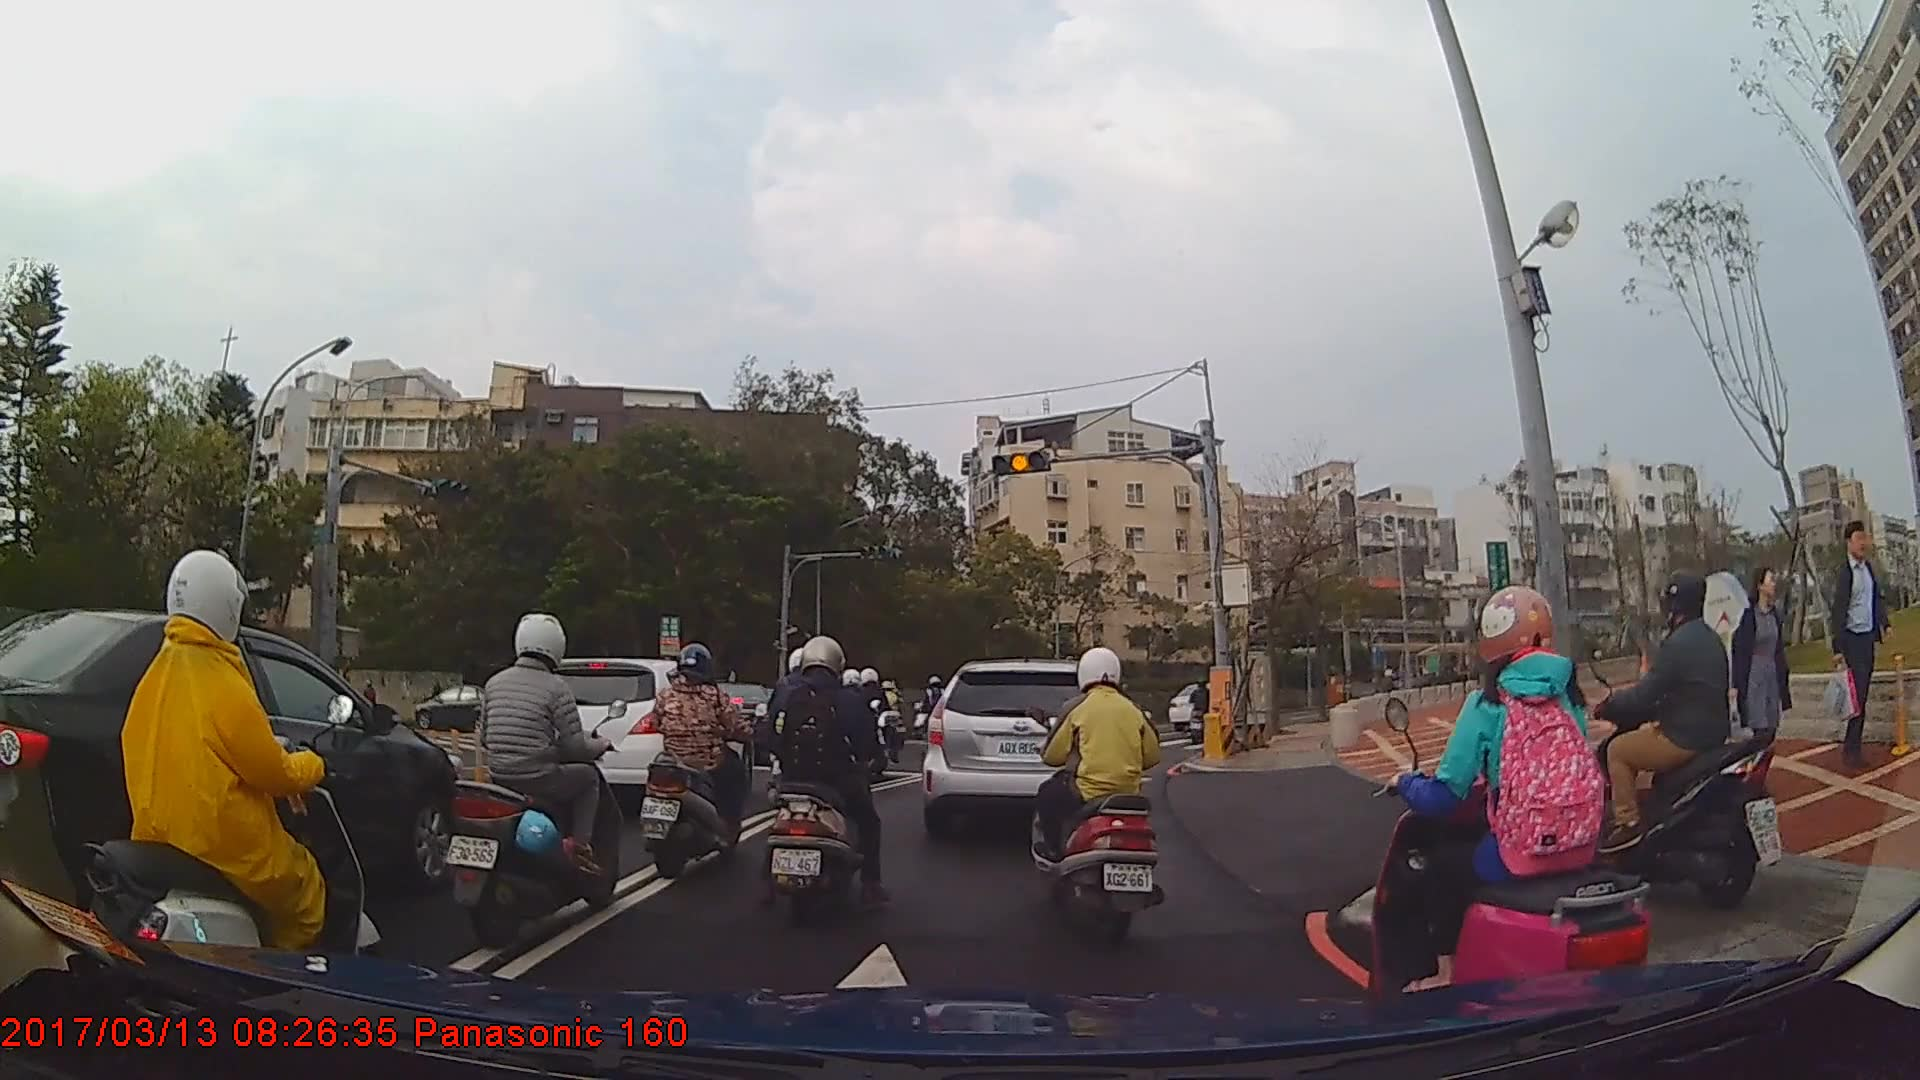pedestrian: (1826, 522, 1889, 775), (1730, 567, 1796, 801)
rider: (81, 545, 384, 1010), (1366, 589, 1647, 1025), (1573, 575, 1760, 907), (448, 607, 619, 952), (1026, 647, 1165, 944), (763, 636, 894, 931), (634, 642, 761, 878), (875, 682, 908, 743), (1188, 678, 1219, 742)
vehicle: (0, 606, 462, 934), (518, 657, 753, 817), (915, 659, 1126, 837), (413, 683, 515, 731)
